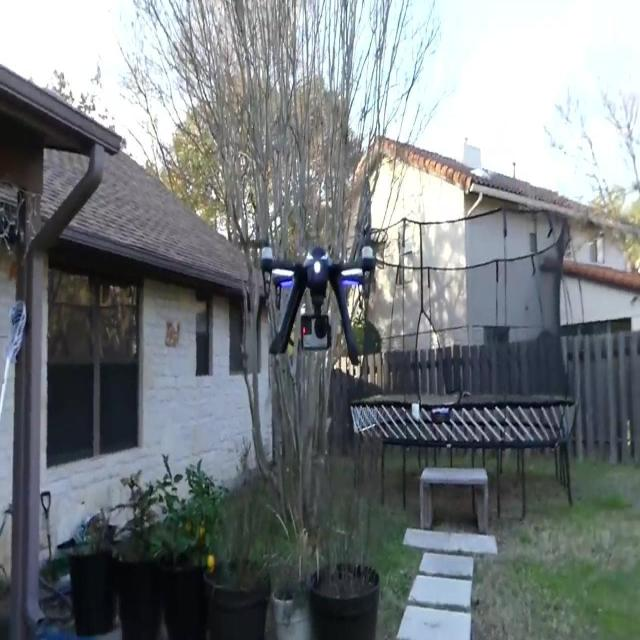drone: (252, 224, 376, 371)
